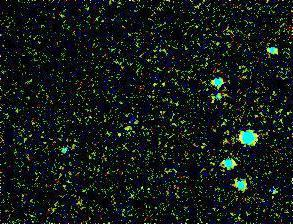star: (104, 120, 134, 150)
